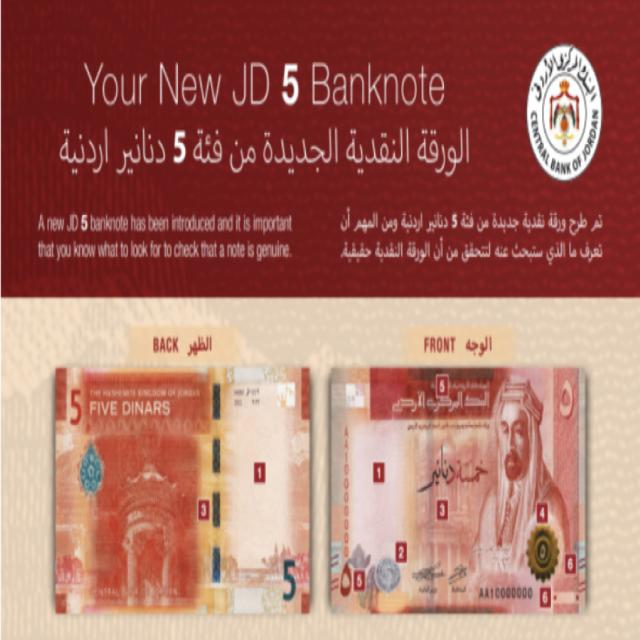5-dinar: (53, 368, 312, 620), (331, 366, 588, 614)
